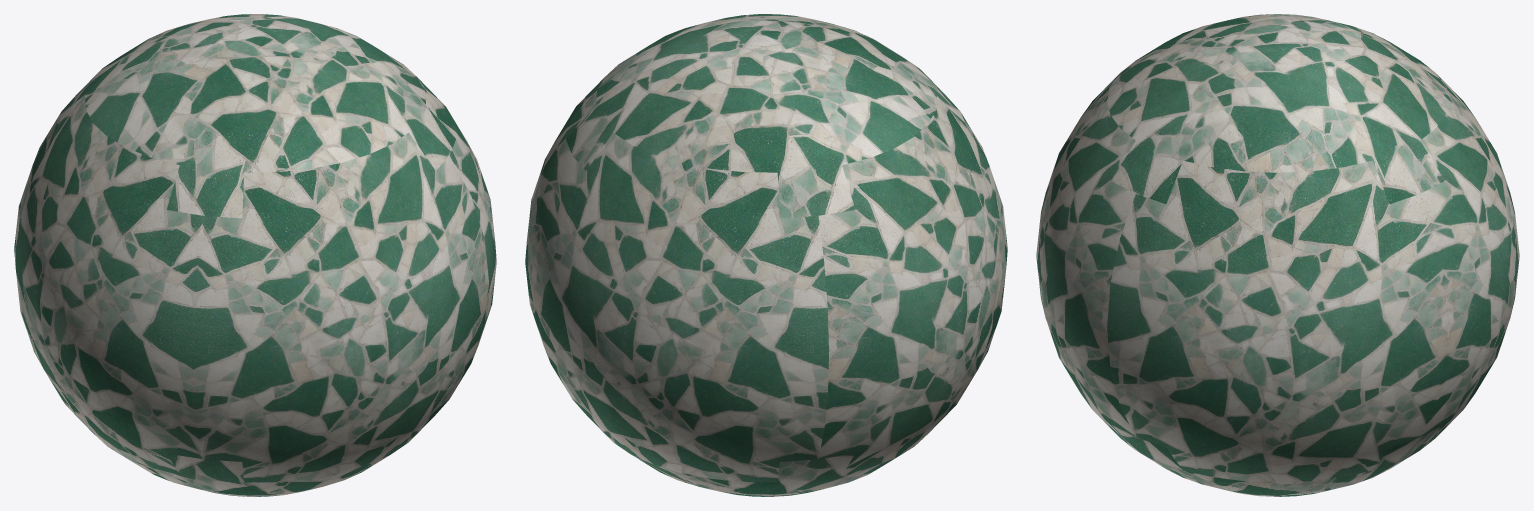
Rendered from marble-05.glb.
3 views of the same model, side by side, from view 1: azimuth 30°, elevation 25°; view 2: azimuth 150°, elevation 25°; view 3: azimuth 270°, elevation 25° (orthographic).
Visible parts, largest first — view 1: Icosphere; view 2: Icosphere; view 3: Icosphere.
Part boxes in pixels (x1,y1,x2,y2): Icosphere: (14,14,496,496); Icosphere: (525,14,1007,496); Icosphere: (1036,14,1519,496).
Size of the model in its own units: 1 by 1 by 1.
Materials: 1 (1 with a texture image).
